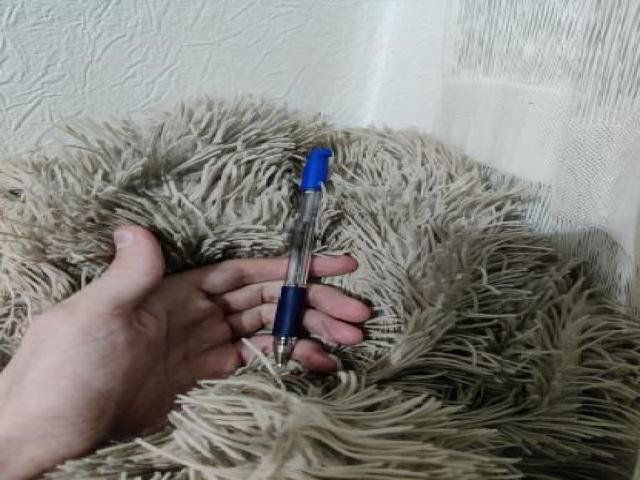PEN: (264, 147, 335, 365)
